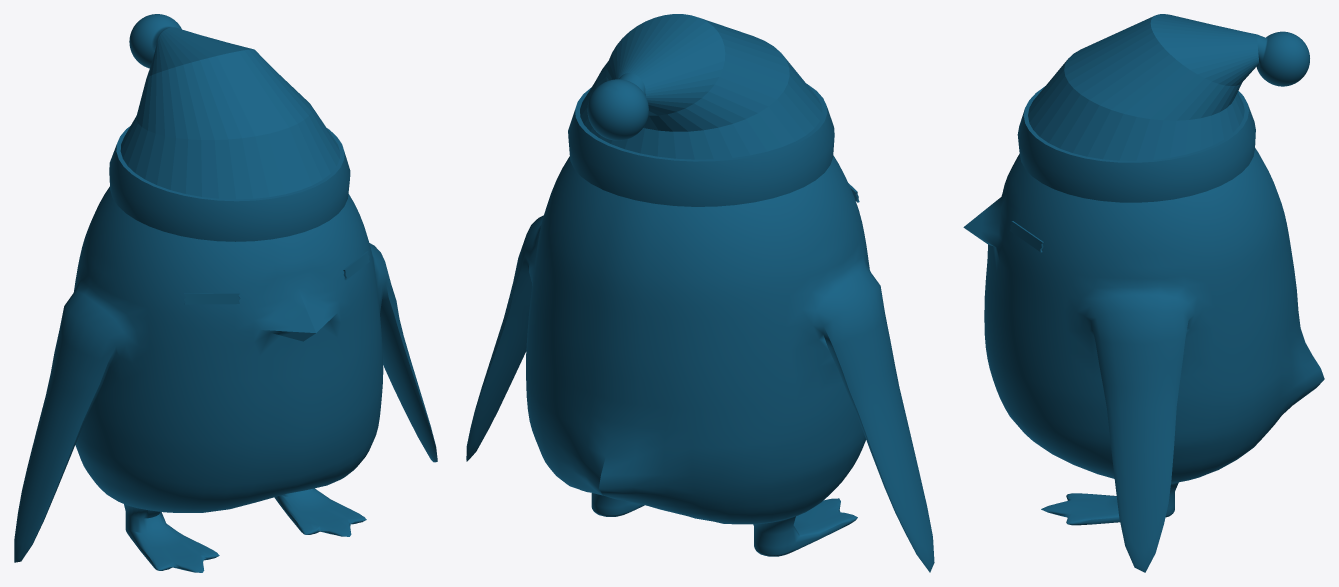
The model's file is penguin_blue_idle_44f.fbx.
3 views of the same model, side by side, from view 1: azimuth 30°, elevation 25°; view 2: azimuth 150°, elevation 25°; view 3: azimuth 270°, elevation 25° (orthographic). The views are drawn at different scales.
Parts seen in each view (by area): view 1: ppp_44, bousi, ai; view 2: ppp_44, bousi; view 3: ppp_44, bousi.
Part boxes in pixels (left/top/right/bottom): ppp_44: left=14, top=186, right=437, bottom=572; bousi: left=109, top=14, right=350, bottom=241; ai: left=183, top=251, right=369, bottom=304; ppp_44: left=466, top=155, right=934, bottom=572; bousi: left=568, top=14, right=834, bottom=206; ppp_44: left=963, top=148, right=1324, bottom=572; bousi: left=1017, top=14, right=1309, bottom=202.
Bounding box in the file's own units: 19.11 × 20.12 × 14.46.
1 material, 1 textured.
